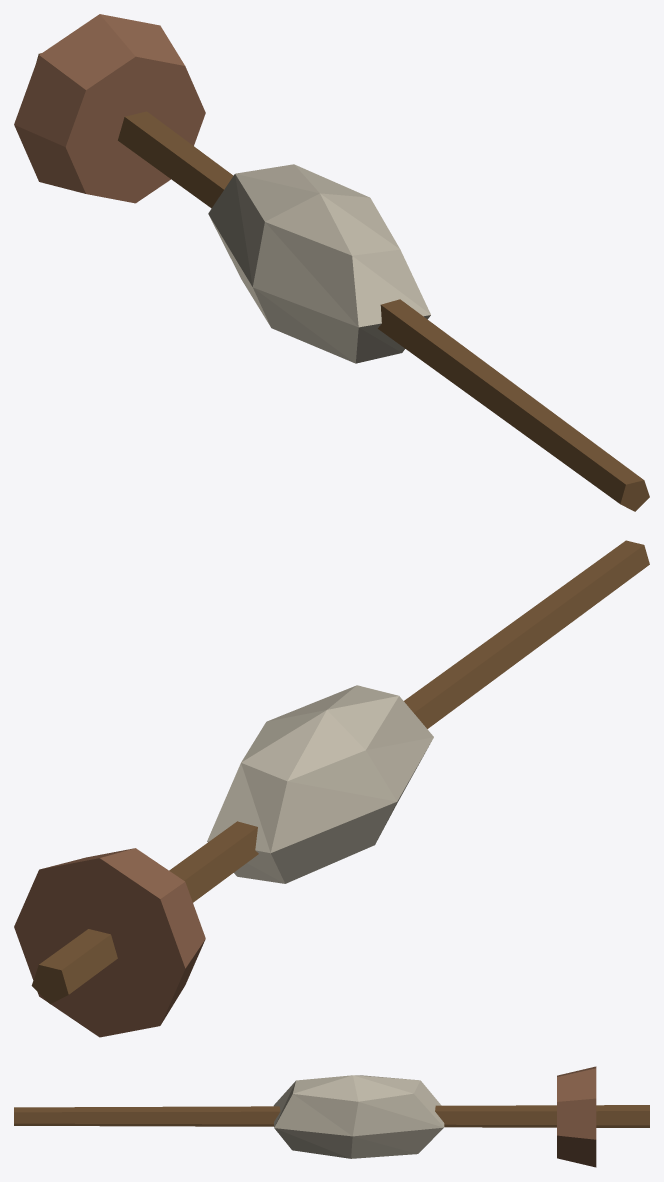
Rendered from f7_ten.glb.
3 views of the same model, one above another, from view 1: azimuth 30°, elevation 25°; view 2: azimuth 150°, elevation 25°; view 3: azimuth 270°, elevation 25° (orthographic). The views are drawn at different scales.
Visible parts, largest first — view 1: F_ten_med_tenvaegt; view 2: F_ten_med_tenvaegt; view 3: F_ten_med_tenvaegt.
Part boxes in pixels (x1,y1,x2,y2): F_ten_med_tenvaegt: (14, 14, 649, 511); F_ten_med_tenvaegt: (14, 540, 649, 1037); F_ten_med_tenvaegt: (14, 1066, 649, 1167).
Size of the model in its own units: 0.044 by 0.044 by 0.26.
